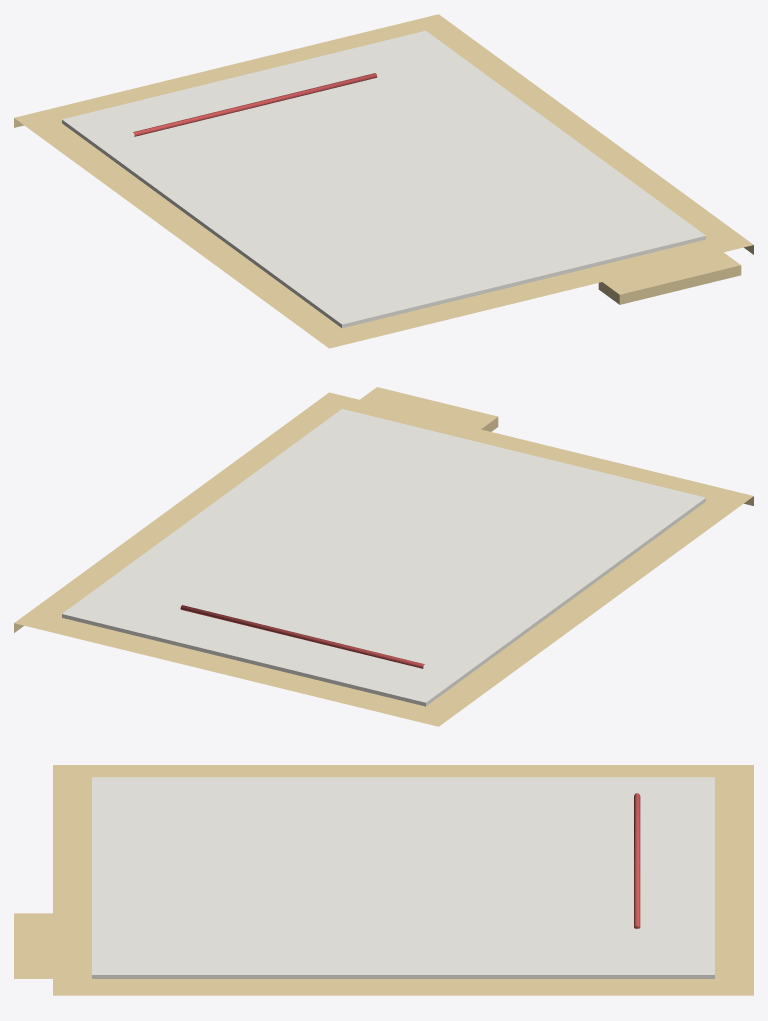
File: file_folder.glb
3 renders of one model, top to bottom at view 1: azimuth 30°, elevation 25°; view 2: azimuth 150°, elevation 25°; view 3: azimuth 270°, elevation 25°, orthographic. The views are drawn at different scales.
Visible parts, largest first — view 1: file_folder; view 2: file_folder; view 3: file_folder.
Part boxes in pixels (<box>): file_folder: <box>14,14,753,348</box>; file_folder: <box>14,387,753,726</box>; file_folder: <box>14,765,753,995</box>.
Bounding box in the file's own units: 0.35 × 0.0137 × 0.475.
